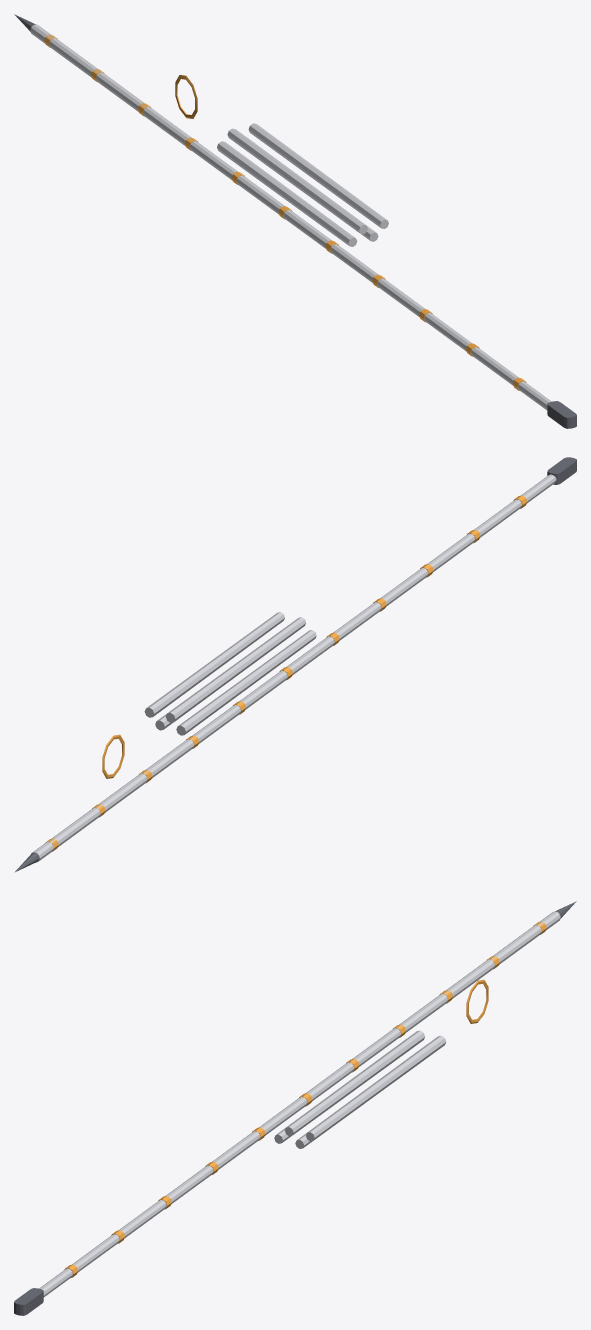
The model's file is backcountry-snowboarding-and-avalanche-safety-avalanch-ae414a45__18932.glb.
3 views of the same model, one above another, from view 1: azimuth 30°, elevation 25°; view 2: azimuth 150°, elevation 25°; view 3: azimuth 330°, elevation 25° (orthographic).
Parts seen in each view (by area): view 1: avalanche-probe; view 2: avalanche-probe; view 3: avalanche-probe.
Part boxes in pixels (x1=…): avalanche-probe: x1=14, y1=14, x2=576, y2=428; avalanche-probe: x1=14, y1=457, x2=576, y2=872; avalanche-probe: x1=14, y1=901, x2=576, y2=1315.
Size of the model in its own units: 0.155 by 0.0999 by 2.38.
